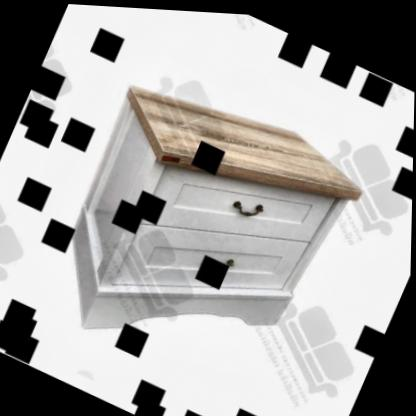Nightstand: (37, 50, 369, 390)
